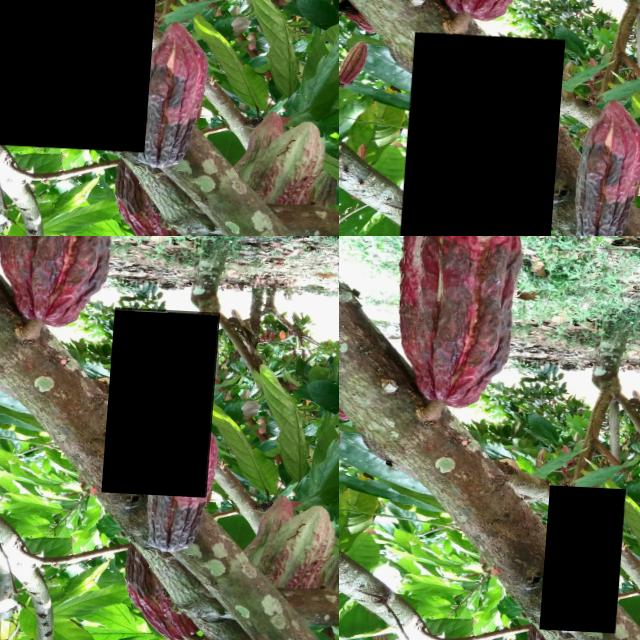Fitoftora: (404, 30, 569, 236), (0, 0, 172, 148), (397, 236, 535, 409), (109, 304, 224, 493), (547, 482, 632, 629)
Sana: (257, 431, 305, 546), (70, 535, 111, 604), (16, 507, 48, 554), (339, 425, 349, 471), (378, 631, 400, 640)
